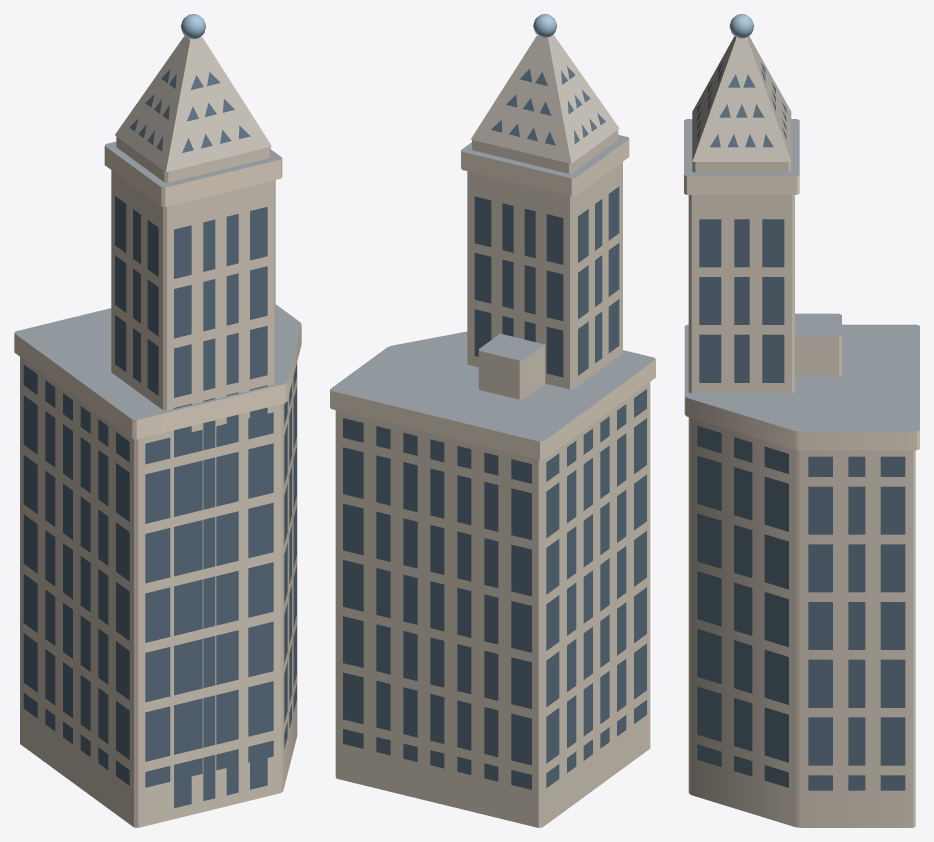
Rendered from sea-smith-tower.glb.
The picture shows the model from 3 angles, left to right: view 1: azimuth 30°, elevation 25°; view 2: azimuth 150°, elevation 25°; view 3: azimuth 270°, elevation 25°; orthographic projection. The views are drawn at different scales.
Visible parts, largest first — view 1: Smith Tower; view 2: Smith Tower; view 3: Smith Tower.
Boxes of the visible parts, left/top/right/bottom form: Smith Tower: left=14, top=14, right=301, bottom=827; Smith Tower: left=330, top=14, right=655, bottom=827; Smith Tower: left=684, top=14, right=919, bottom=827.
Bounding box in the file's own units: 42.9 × 140 × 40.
